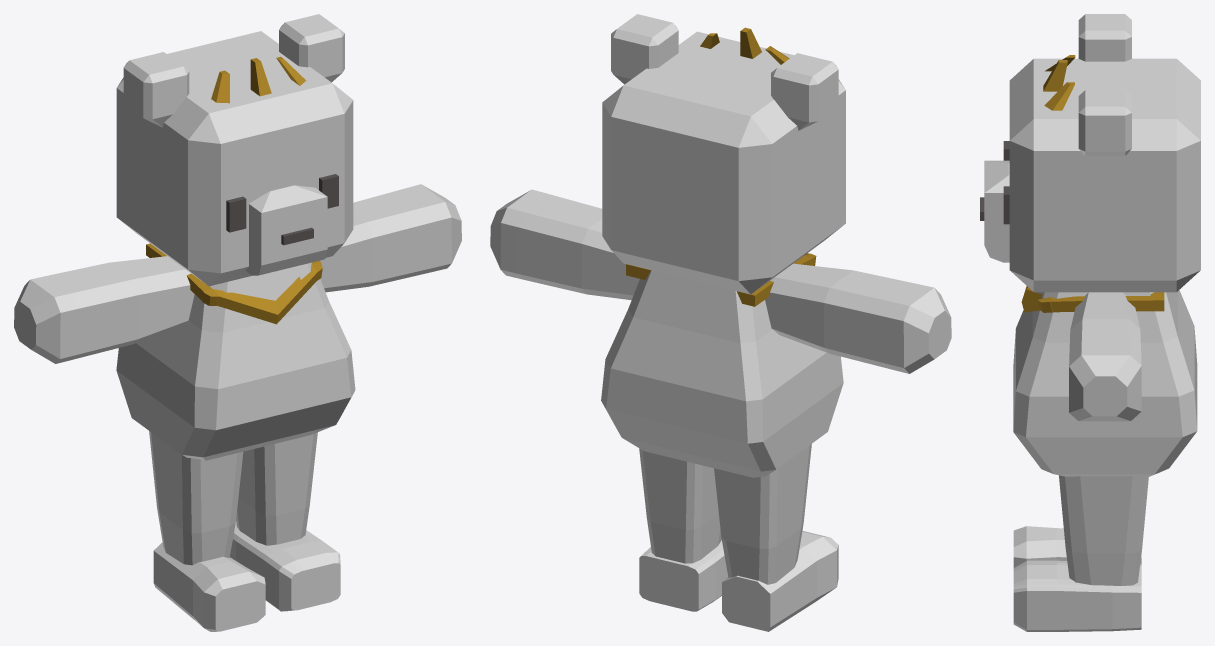
File: Oso Fantasma.fbx
The picture shows the model from 3 angles, left to right: view 1: azimuth 30°, elevation 25°; view 2: azimuth 150°, elevation 25°; view 3: azimuth 270°, elevation 25°; orthographic projection. The views are drawn at different scales.
Parts seen in each view (by area): view 1: Pie I, Cube.001, Cube, Ojo I; view 2: Pie I, Cube.001, Cube; view 3: Pie I, Cube.001, Cube.
Boxes of the visible parts, <box> form: Pie I: <box>14,14,461,631</box>; Cube.001: <box>146,243,322,324</box>; Cube: <box>211,56,306,103</box>; Ojo I: <box>226,196,246,232</box>; Pie I: <box>490,14,951,631</box>; Cube.001: <box>626,253,816,306</box>; Cube: <box>700,27,789,64</box>; Pie I: <box>984,14,1200,631</box>; Cube.001: <box>1021,286,1164,312</box>; Cube: <box>1043,55,1075,110</box>.
Bounding box in the file's own units: 4.01 × 4.89 × 1.8.
